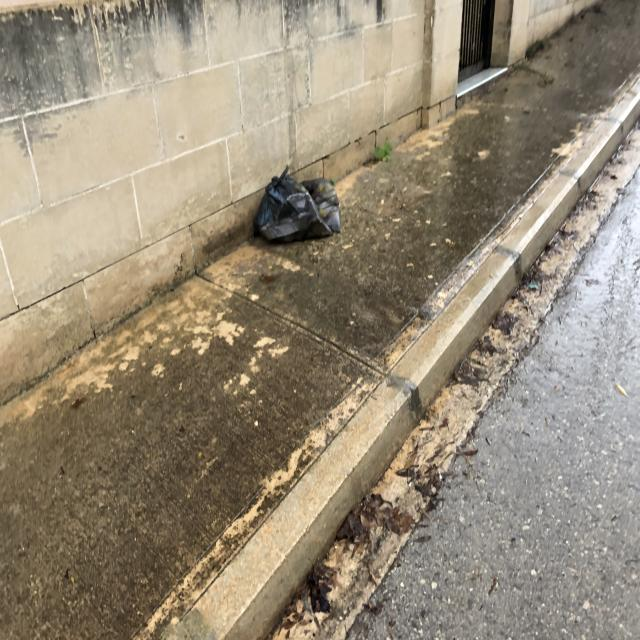Mixed Waste -Black Bag-: (254, 165, 333, 247), (300, 177, 342, 235)
